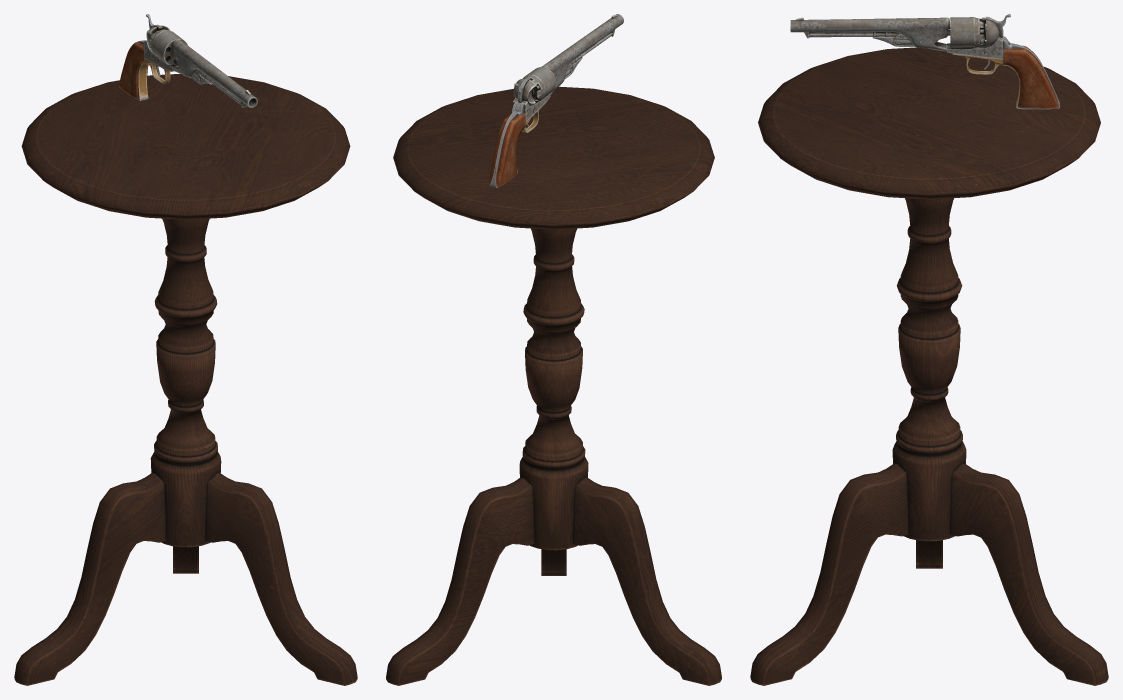
File: table_revolver.glb
3 renders of one model, left to right at view 1: azimuth 30°, elevation 25°; view 2: azimuth 150°, elevation 25°; view 3: azimuth 270°, elevation 25°, orthographic. The views are drawn at different scales.
Parts seen in each view (by area): view 1: SmallTable, GUN; view 2: SmallTable, GUN; view 3: SmallTable, GUN.
Part boxes in pixels (bbox=[...]): SmallTable: bbox=[14, 73, 357, 685]; GUN: bbox=[119, 14, 257, 107]; SmallTable: bbox=[386, 86, 721, 685]; GUN: bbox=[489, 14, 623, 187]; SmallTable: bbox=[750, 47, 1108, 685]; GUN: bbox=[790, 14, 1059, 109].
Bounding box in the file's own units: 0.5536 × 1.01 × 0.5272.
Materials: 2 (2 with a texture image).
